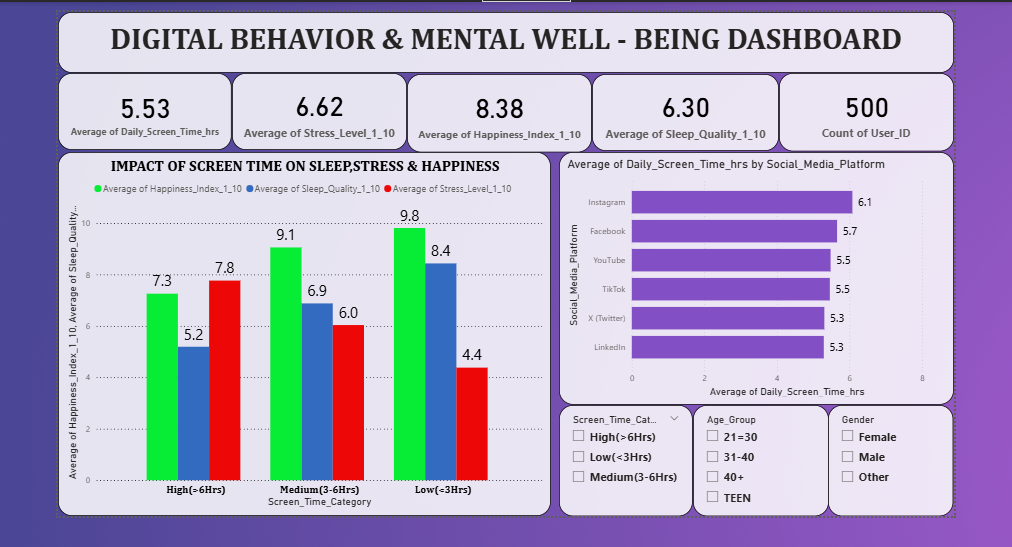

What the dashboard file says about the page in this screenshot:
{"tool":"powerbi","page":{"name":"DIGITAL BEHAVIOR OVERVIEW","canvas":[1280,720],"ordinal":0},"visuals":[{"type":"card","fields":{"Values":["Avg(Mental_Health_and_Social_Media_Balance_Dataset.Daily_Screen_Time_hrs)"]},"box":[0,86.7,248.3,110.2],"z":0},{"type":"card","fields":{"Values":["Avg(Mental_Health_and_Social_Media_Balance_Dataset.Sleep_Quality_1_10)"]},"box":[762.6,88.2,267.4,110.2],"z":1000},{"type":"card","fields":{"Values":["Avg(Mental_Health_and_Social_Media_Balance_Dataset.Stress_Level_1_10)"]},"box":[248.3,86.7,249.8,110.2],"z":2000},{"type":"card","fields":{"Values":["Avg(Mental_Health_and_Social_Media_Balance_Dataset.Happiness_Index_1_10)"]},"box":[498.1,88.2,264.5,111.7],"z":3000},{"type":"card","fields":{"Values":["Count(Mental_Health_and_Social_Media_Balance_Dataset.User_ID)"]},"box":[1030,86.7,249.8,111.7],"z":4000},{"type":"clusteredColumnChart","title":"IMPACT OF SCREEN TIME ON SLEEP,STRESS & HAPPINESS","fields":{"Category":["Mental_Health_and_Social_Media_Balance_Dataset.Screen_Time_Category"],"Y":["Avg(Mental_Health_and_Social_Media_Balance_Dataset.Happiness_Index_1_10)","Avg(Mental_Health_and_Social_Media_Balance_Dataset.Sleep_Quality_1_10)","Avg(Mental_Health_and_Social_Media_Balance_Dataset.Stress_Level_1_10)"]},"box":[0,199.8,703.8,520.2],"z":5000},{"type":"clusteredBarChart","fields":{"Category":["Mental_Health_and_Social_Media_Balance_Dataset.Social_Media_Platform"],"Y":["Avg(Mental_Health_and_Social_Media_Balance_Dataset.Daily_Screen_Time_hrs)"]},"box":[715.6,199.8,564.2,361.5],"z":6000},{"type":"slicer","fields":{"Values":["Mental_Health_and_Social_Media_Balance_Dataset.Age_Group"]},"box":[906.6,561.3,194,158.7],"z":7000},{"type":"slicer","fields":{"Values":["Mental_Health_and_Social_Media_Balance_Dataset.Gender"]},"box":[1100.6,561.3,179.3,158.7],"z":8000},{"type":"slicer","fields":{"Values":["Mental_Health_and_Social_Media_Balance_Dataset.Screen_Time_Category"]},"box":[715.6,561.3,191,158.7],"z":9000},{"type":"textbox","box":[0,0,1279.8,86.7],"z":9001}]}

Visuals, with their boxes on the page's 1280x720 design canvas (x1, y1, x2, y2). These are canvas units, not pixel positions in the 1012x547 screenshot, which may show the page scaled, cropped or inside an application window:
card - Avg(Mental_Health_and_Social_Media_Balance_Dataset.Daily_Screen_Time_hrs): bbox=(0, 87, 248, 197)
card - Avg(Mental_Health_and_Social_Media_Balance_Dataset.Sleep_Quality_1_10): bbox=(763, 88, 1030, 198)
card - Avg(Mental_Health_and_Social_Media_Balance_Dataset.Stress_Level_1_10): bbox=(248, 87, 498, 197)
card - Avg(Mental_Health_and_Social_Media_Balance_Dataset.Happiness_Index_1_10): bbox=(498, 88, 763, 200)
card - Count(Mental_Health_and_Social_Media_Balance_Dataset.User_ID): bbox=(1030, 87, 1280, 198)
"IMPACT OF SCREEN TIME ON SLEEP,STRESS & HAPPINESS" clusteredColumnChart: bbox=(0, 200, 704, 720)
clusteredBarChart - Mental_Health_and_Social_Media_Balance_Dataset.Social_Media_Platform x Avg(Mental_Health_and_Social_Media_Balance_Dataset.Daily_Screen_Time_hrs): bbox=(716, 200, 1280, 561)
slicer - Mental_Health_and_Social_Media_Balance_Dataset.Age_Group: bbox=(907, 561, 1101, 720)
slicer - Mental_Health_and_Social_Media_Balance_Dataset.Gender: bbox=(1101, 561, 1280, 720)
slicer - Mental_Health_and_Social_Media_Balance_Dataset.Screen_Time_Category: bbox=(716, 561, 907, 720)
textbox: bbox=(0, 0, 1280, 87)
